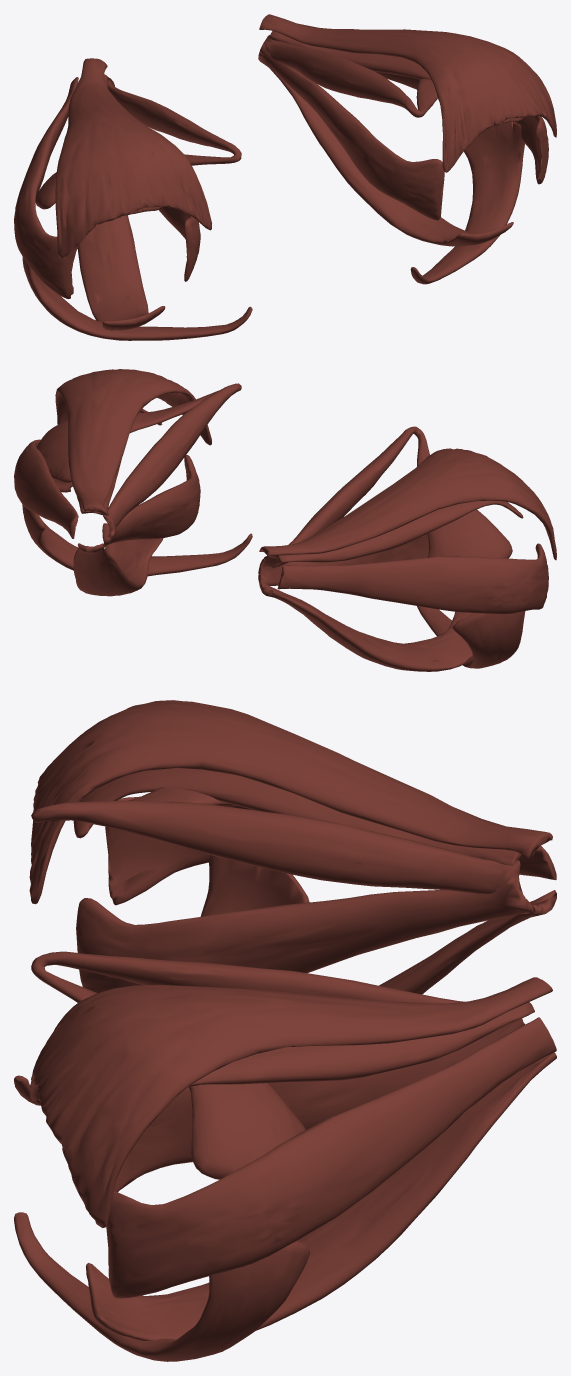
File: musculo_olho.glb
The picture shows the model from 3 angles, top to bottom: view 1: azimuth 30°, elevation 25°; view 2: azimuth 150°, elevation 25°; view 3: azimuth 270°, elevation 25°; orthographic projection. The views are drawn at different scales.
Parts seen in each view (by area): view 1: Levator palpebrae superioris.r, Levator palpebrae superioris.l, Medial rectus muscle.l, Inferior oblique muscle.l, Inferior rectus muscle.r, Inferior rectus muscle.l, Lateral rectus muscle.r, Superior oblique muscle.l, Superior oblique muscle.r, Inferior oblique muscle.r, Superior rectus muscle.l, Lateral rectus muscle.l (+1 smaller); view 2: Lateral rectus muscle.r, Levator palpebrae superioris.r, Levator palpebrae superioris.l, Superior oblique muscle.l, Superior oblique muscle.r, Inferior rectus muscle.r, Inferior rectus muscle.l, Medial rectus muscle.l, Inferior oblique muscle.r, Lateral rectus muscle.l, Superior rectus muscle.r, Inferior oblique muscle.l (+1 smaller); view 3: Levator palpebrae superioris.l, Lateral rectus muscle.l, Levator palpebrae superioris.r, Medial rectus muscle.r, Superior oblique muscle.r, Inferior rectus muscle.l, Superior oblique muscle.l, Inferior oblique muscle.l, Medial rectus muscle.l, Superior rectus muscle.l, Superior rectus muscle.r, Lateral rectus muscle.r (+2 smaller).
Part boxes in pixels (x1,y1,x2,y2): Levator palpebrae superioris.r: (55, 58, 211, 258); Levator palpebrae superioris.l: (259, 14, 556, 172); Medial rectus muscle.l: (258, 43, 444, 220); Inferior oblique muscle.l: (410, 122, 524, 284); Inferior rectus muscle.r: (78, 215, 165, 330); Inferior rectus muscle.l: (260, 61, 513, 246); Lateral rectus muscle.r: (14, 77, 78, 299); Superior oblique muscle.l: (263, 35, 437, 117); Superior oblique muscle.r: (35, 77, 241, 209); Inferior oblique muscle.r: (22, 257, 252, 340); Superior rectus muscle.l: (269, 31, 523, 126); Lateral rectus muscle.l: (375, 71, 548, 184); Lateral rectus muscle.r: (277, 543, 548, 613); Levator palpebrae superioris.r: (259, 448, 556, 560); Levator palpebrae superioris.l: (55, 369, 211, 514); Superior oblique muscle.l: (37, 383, 241, 528); Superior oblique muscle.r: (263, 426, 512, 568); Inferior rectus muscle.r: (259, 582, 474, 671); Inferior rectus muscle.l: (73, 523, 163, 596); Medial rectus muscle.l: (103, 455, 200, 547); Inferior oblique muscle.r: (417, 606, 525, 668); Lateral rectus muscle.l: (14, 439, 78, 538); Superior rectus muscle.r: (271, 500, 523, 562); Inferior oblique muscle.l: (22, 505, 252, 576); Levator palpebrae superioris.l: (29, 977, 552, 1227); Lateral rectus muscle.l: (106, 1017, 556, 1298); Levator palpebrae superioris.r: (29, 700, 552, 904); Medial rectus muscle.r: (76, 873, 535, 993); Superior oblique muscle.r: (31, 787, 520, 893); Inferior rectus muscle.l: (86, 1052, 556, 1340); Superior oblique muscle.l: (31, 951, 463, 1179); Inferior oblique muscle.l: (14, 1212, 309, 1361); Medial rectus muscle.l: (85, 1018, 524, 1210); Superior rectus muscle.l: (189, 1002, 534, 1086); Superior rectus muscle.r: (73, 768, 521, 865); Lateral rectus muscle.r: (105, 796, 556, 905).
Bounding box in the file's own units: 0.0882 × 0.0337 × 0.0478.
